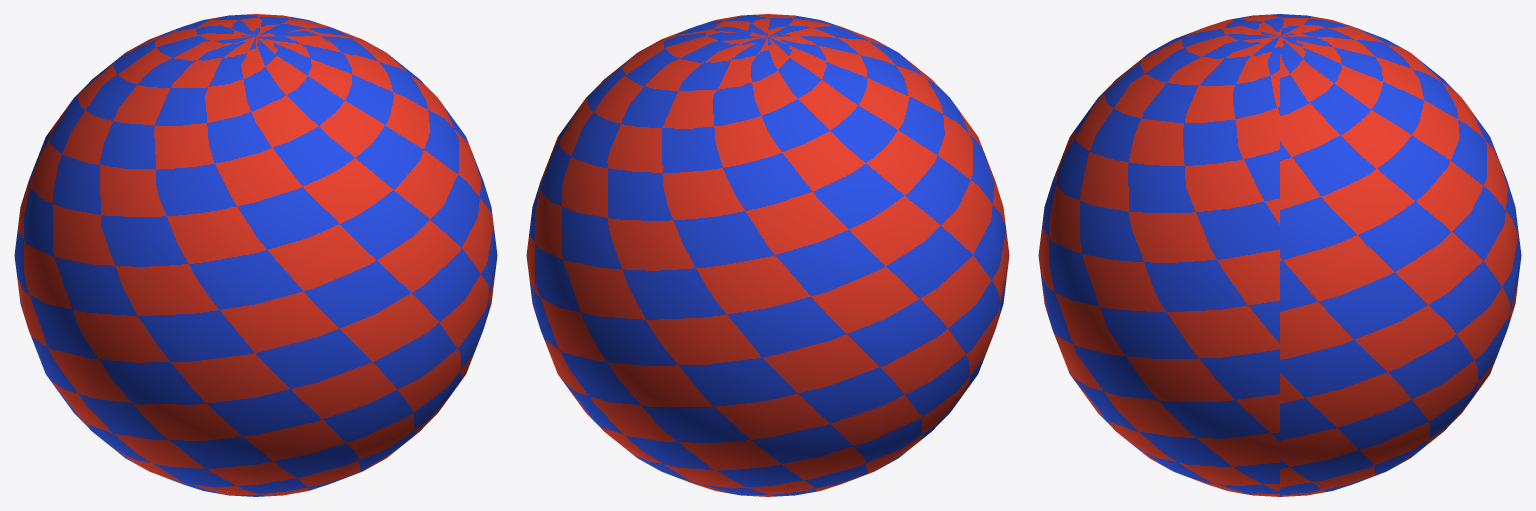
The model's file is tex-transform.gltf.
3 views of the same model, side by side, from view 1: azimuth 30°, elevation 25°; view 2: azimuth 150°, elevation 25°; view 3: azimuth 270°, elevation 25° (orthographic).
Size of the model in its own units: 2 by 2 by 2.
1 material, 1 textured.
